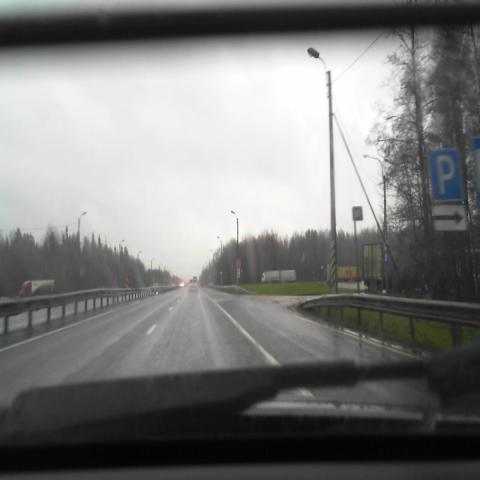8_3_1: (433, 205, 468, 229)
